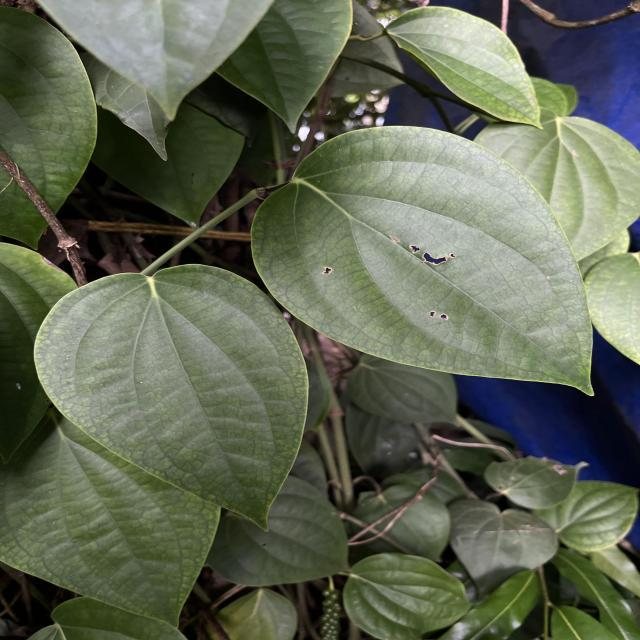Piper nigrum: (248, 123, 601, 400), (30, 256, 314, 535)
